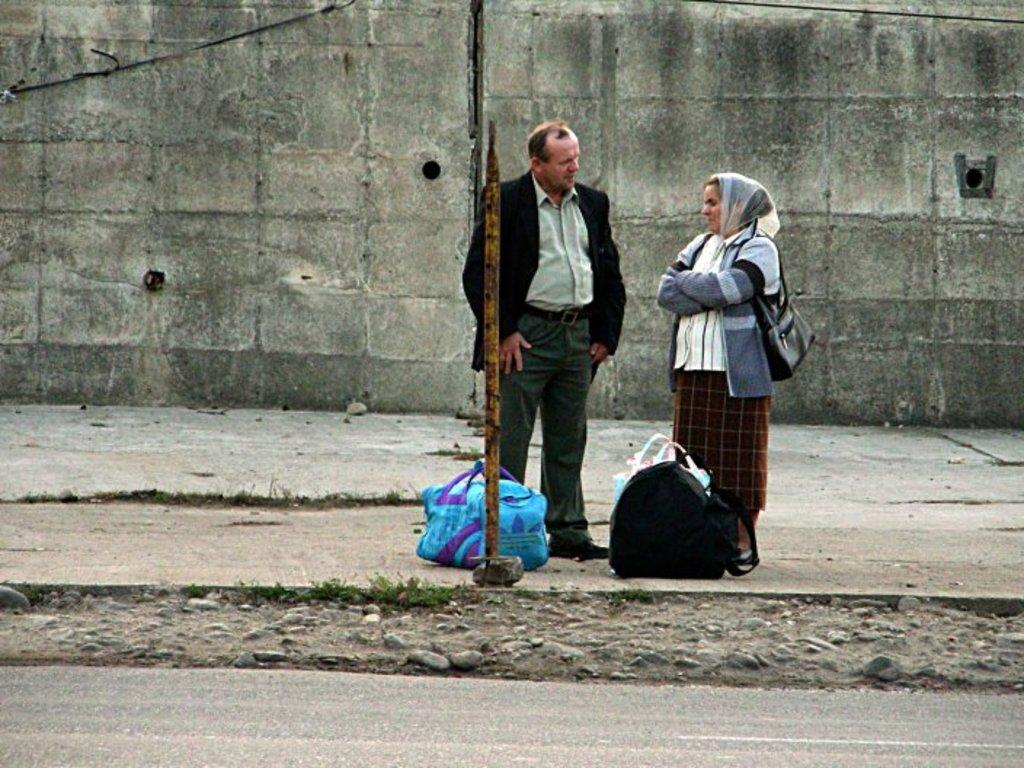Luggage-and-bags: (415, 444, 559, 579), (607, 467, 764, 582), (607, 433, 714, 522)
